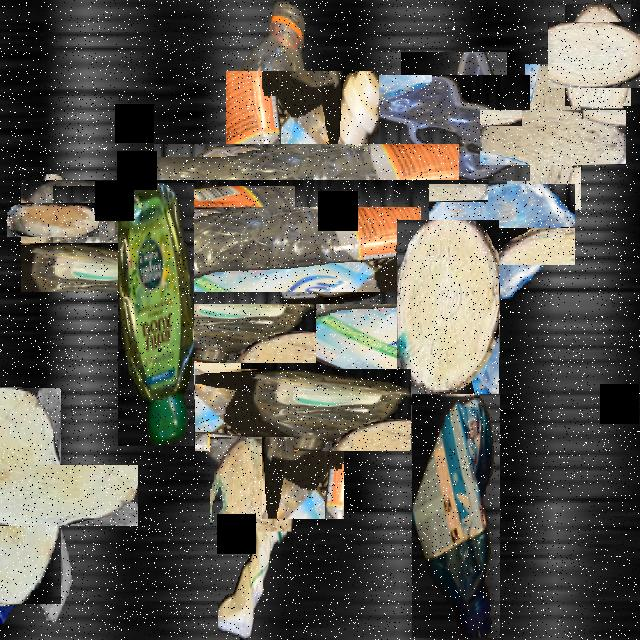glass: (445, 167, 559, 281), (9, 502, 85, 636), (0, 512, 31, 622)
plastic: (110, 91, 400, 382), (190, 107, 422, 340), (192, 210, 406, 426), (228, 336, 378, 485), (412, 393, 500, 638), (118, 183, 194, 446), (389, 63, 518, 193), (218, 489, 286, 638)
wood: (397, 220, 499, 394), (0, 426, 99, 565), (502, 86, 604, 188), (210, 437, 294, 530), (556, 13, 640, 97), (21, 189, 85, 252)
